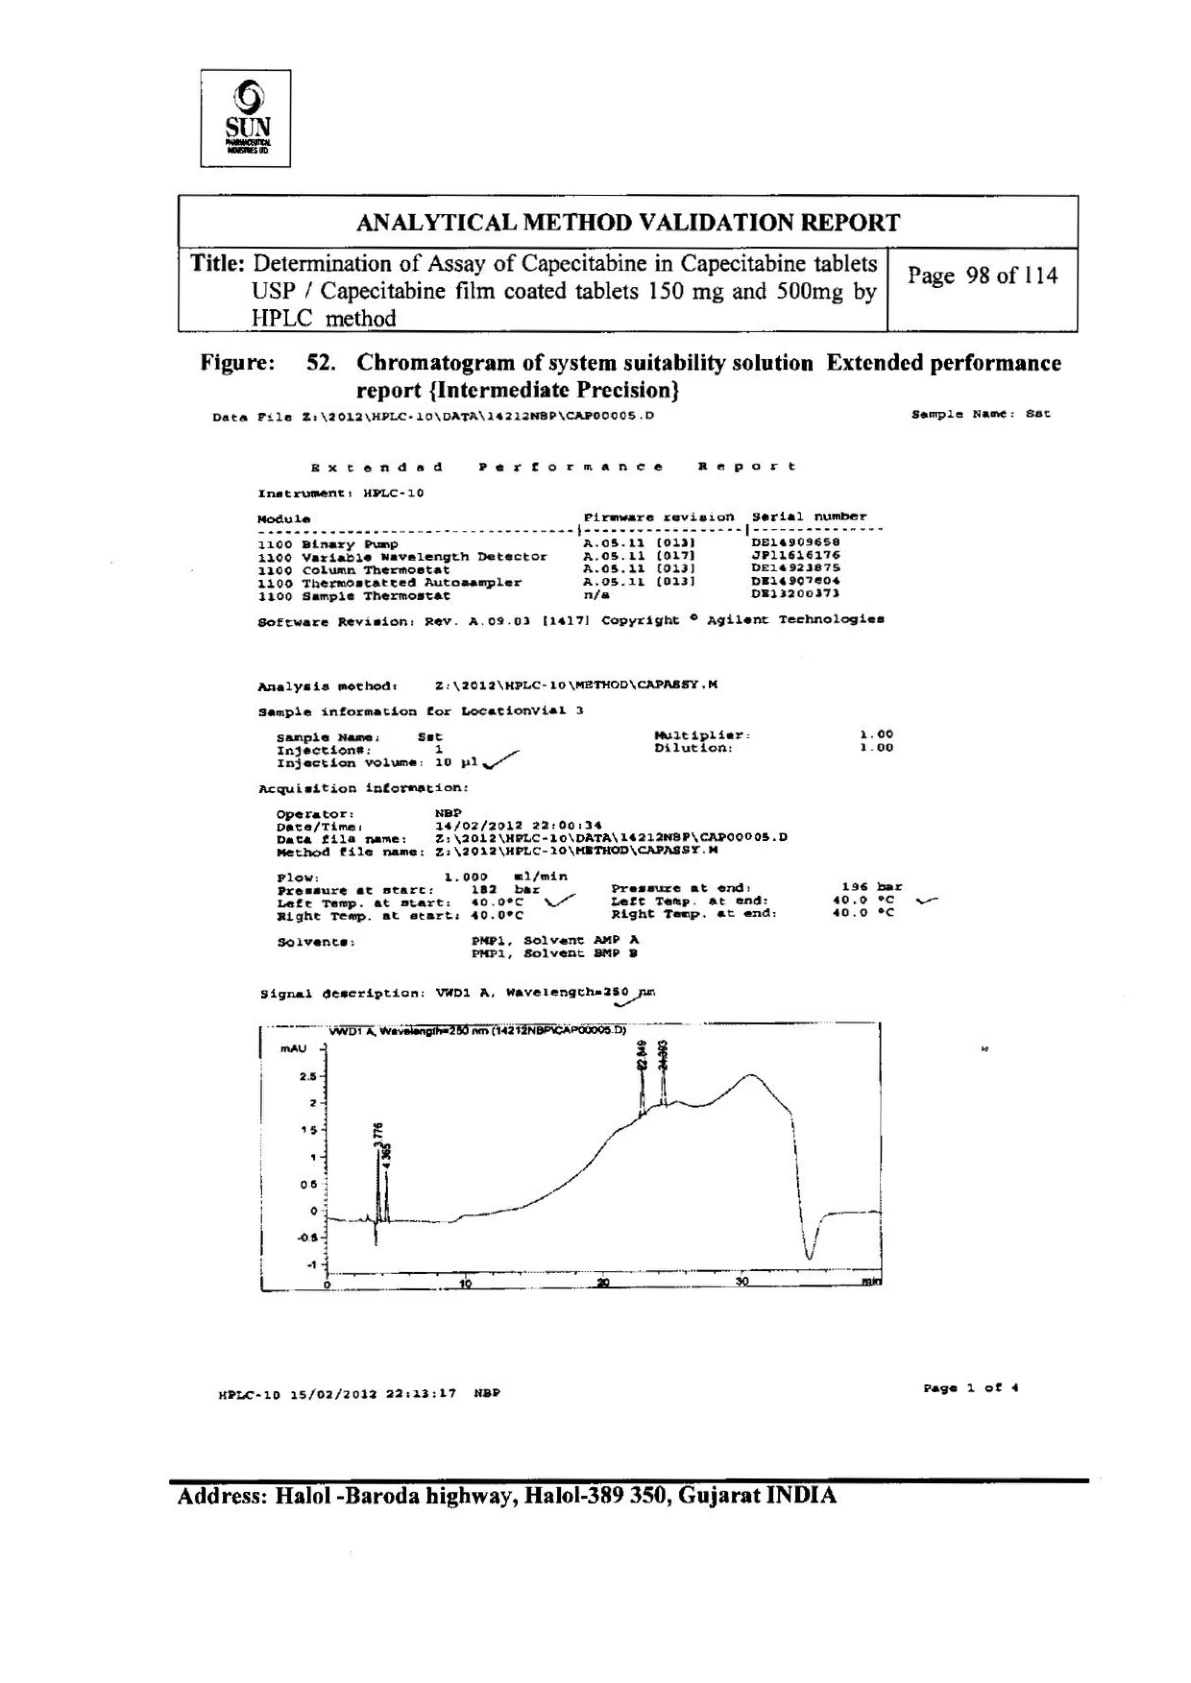merged_cells: (177, 193, 1079, 334)
nolines: (275, 871, 906, 925), (275, 805, 791, 860), (272, 729, 916, 771), (276, 934, 642, 959)
partial_lined: (257, 510, 889, 633)
